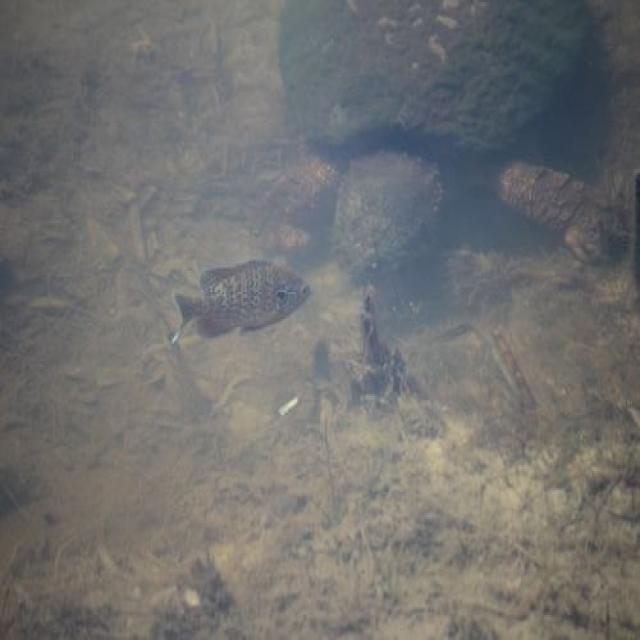Gunes Levregi: (171, 254, 318, 362)
